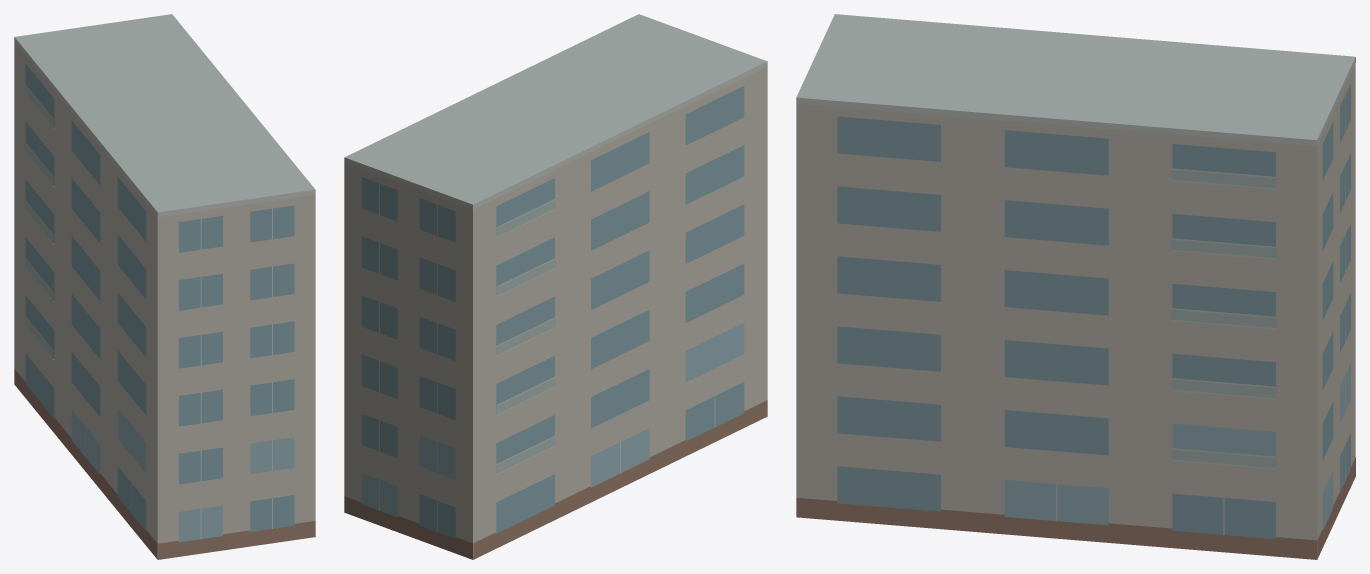
The model's file is survey-upis-32916624.glb.
3 renders of one model, left to right at view 1: azimuth 30°, elevation 25°; view 2: azimuth 150°, elevation 25°; view 3: azimuth 270°, elevation 25°, orthographic. The views are drawn at different scales.
Visible parts, largest first — view 1: survey-upis-32916624.tmp; view 2: survey-upis-32916624.tmp; view 3: survey-upis-32916624.tmp.
Part boxes in pixels (x1,y1,x2,y2): survey-upis-32916624.tmp: (14,14,315,559); survey-upis-32916624.tmp: (344,14,767,559); survey-upis-32916624.tmp: (796,14,1355,559).
Bounding box in the file's own units: 10.97 × 17 × 20.55.
